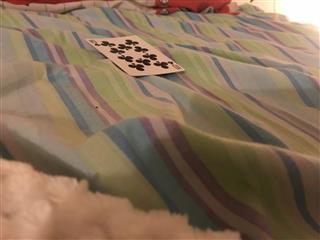TenOfClubs: (83, 34, 186, 76)
